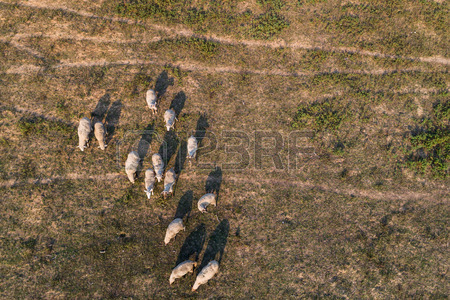sheep: (190, 259, 223, 294), (168, 258, 199, 286), (163, 214, 186, 244), (74, 114, 91, 153), (123, 149, 141, 185), (183, 135, 201, 168), (162, 167, 177, 203), (92, 121, 110, 149), (164, 104, 179, 133), (145, 88, 158, 119), (153, 151, 166, 181), (143, 169, 155, 201)
